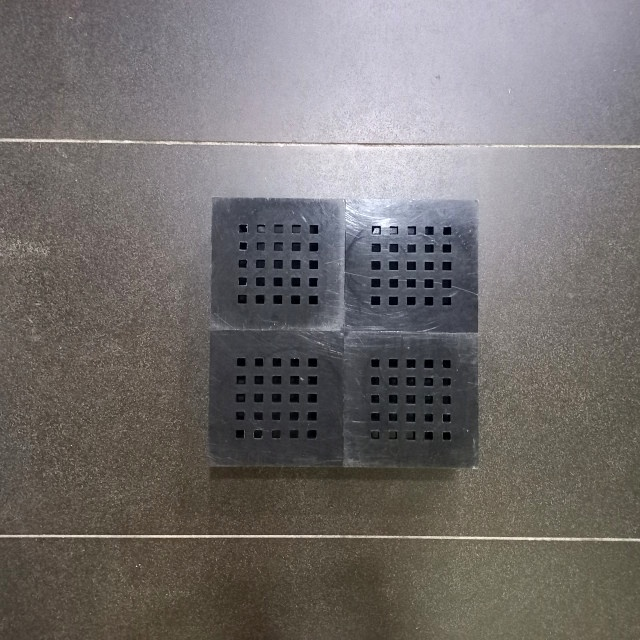pallet: (202, 194, 483, 476)
